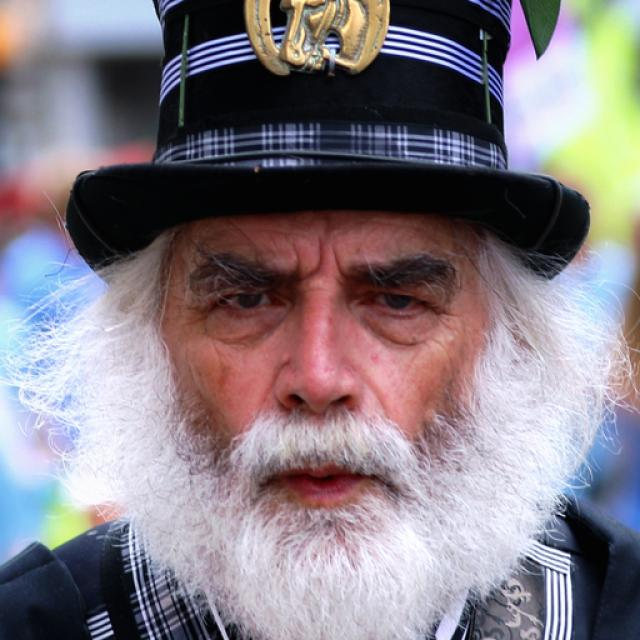Acne: (362, 347, 386, 366), (273, 346, 293, 368)
